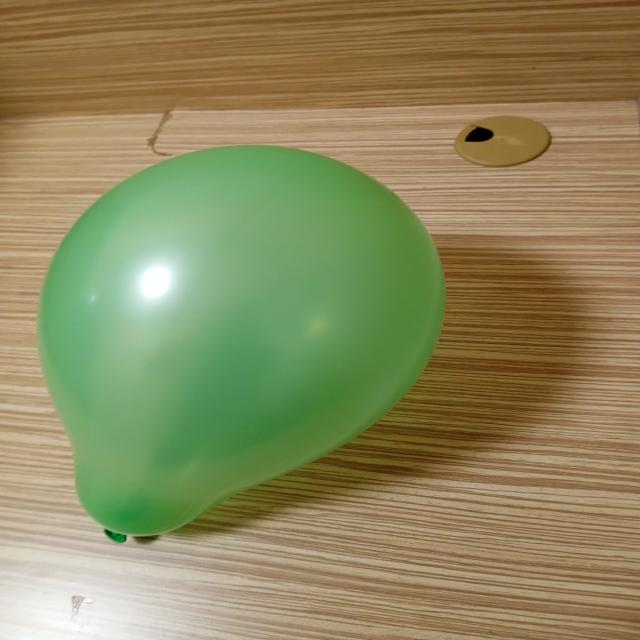balloon: (38, 145, 445, 537)
